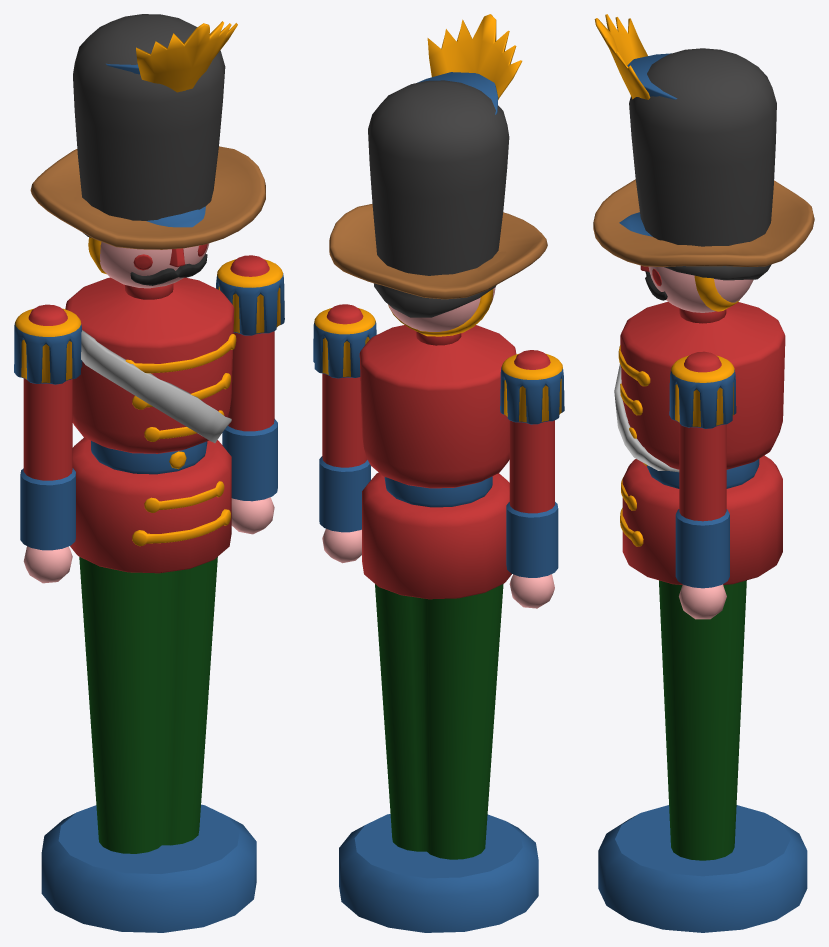
The model's file is Soldiers.fbx.
3 renders of one model, left to right at view 1: azimuth 30°, elevation 25°; view 2: azimuth 150°, elevation 25°; view 3: azimuth 270°, elevation 25°, orthographic. The views are drawn at different scales.
Visible parts, largest first — view 1: Soldier_04, Soldier_02, Soldier_01, Soldier_03; view 2: Soldier_04, Soldier_02, Soldier_01; view 3: Soldier_04, Soldier_02, Soldier_01.
Boxes of the visible parts, <box> form: Soldier_04: <box>14,146,284,932</box>; Soldier_02: <box>73,14,225,237</box>; Soldier_01: <box>88,21,237,274</box>; Soldier_03: <box>146,206,205,227</box>; Soldier_04: <box>313,204,564,932</box>; Soldier_02: <box>368,80,509,317</box>; Soldier_01: <box>388,14,522,336</box>; Soldier_04: <box>593,179,814,932</box>; Soldier_02: <box>629,48,776,280</box>; Soldier_01: <box>594,14,739,311</box>.
Bounding box in the file's own units: 3.63 × 11.98 × 2.76.
